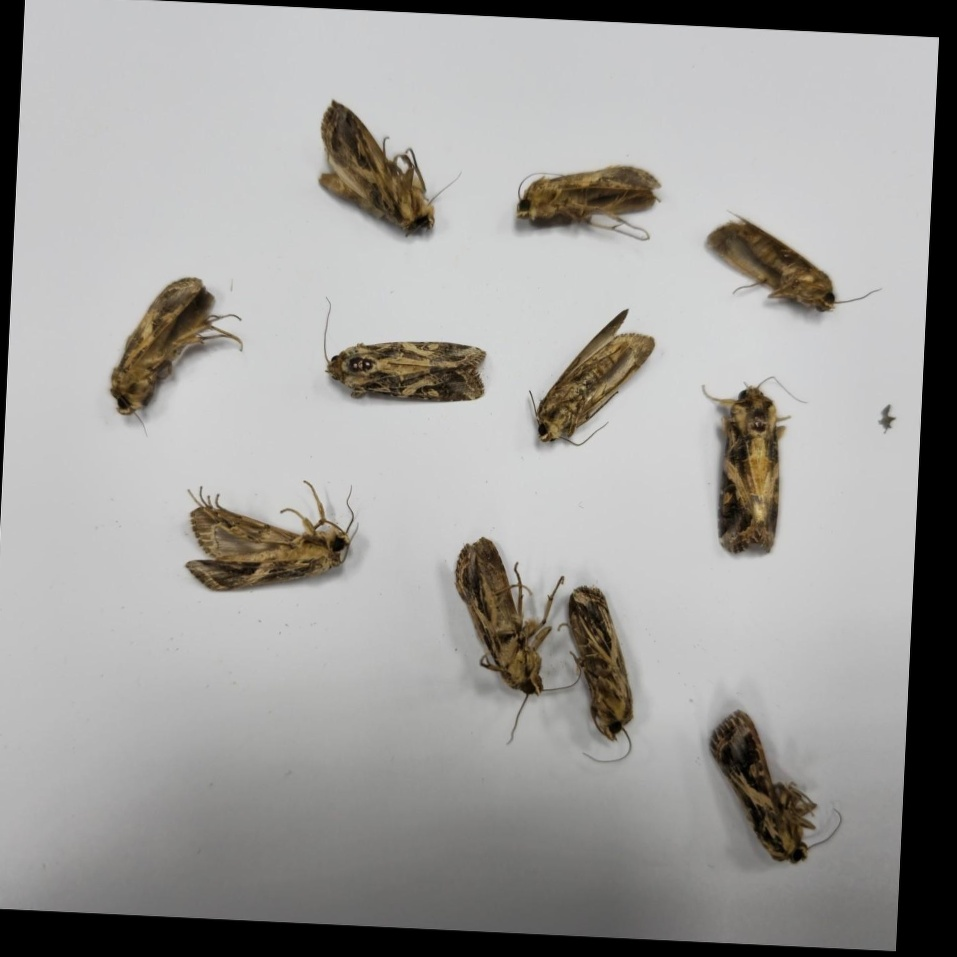Spodoptera litura: (448, 538, 583, 747), (110, 276, 242, 439), (705, 710, 843, 863), (182, 478, 359, 593), (317, 100, 462, 240), (697, 372, 806, 555), (703, 210, 883, 311), (527, 304, 653, 447), (321, 298, 488, 402), (553, 584, 634, 762), (515, 164, 661, 239)
